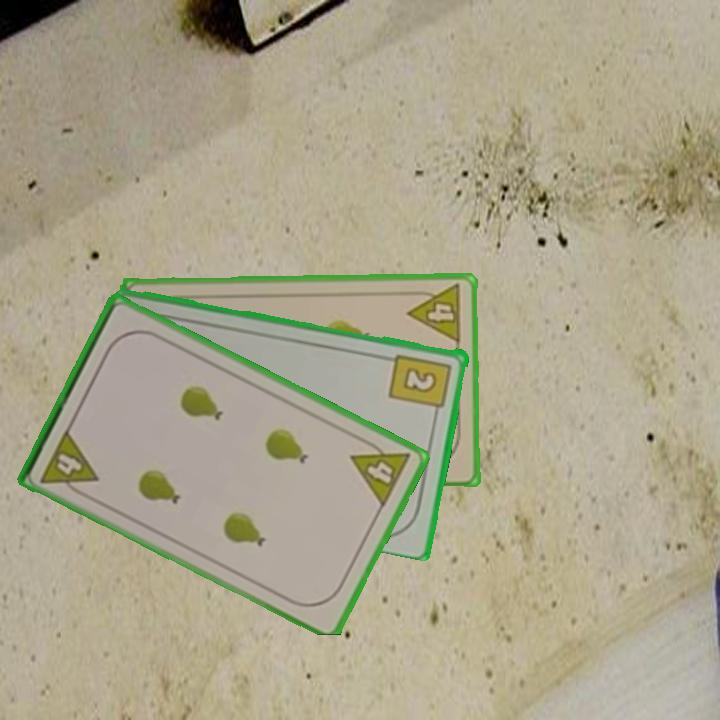2b: (386, 350, 455, 419)
4p: (347, 433, 414, 511), (37, 425, 101, 501), (404, 281, 465, 346)
